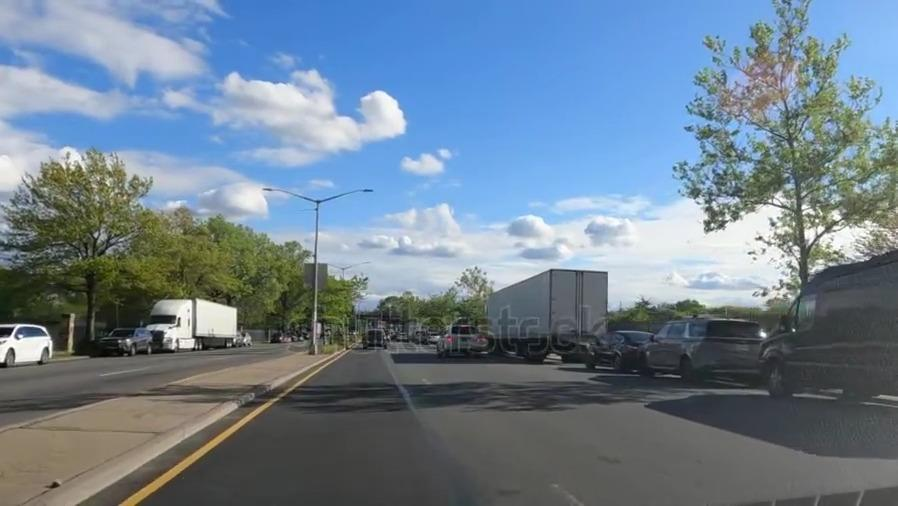car: (641, 319, 765, 378), (1, 321, 53, 368), (589, 331, 642, 371), (97, 325, 153, 355), (438, 324, 479, 358), (361, 328, 388, 349), (240, 331, 251, 346)
truck: (482, 271, 606, 356), (148, 299, 240, 352)
van: (764, 251, 898, 399)
